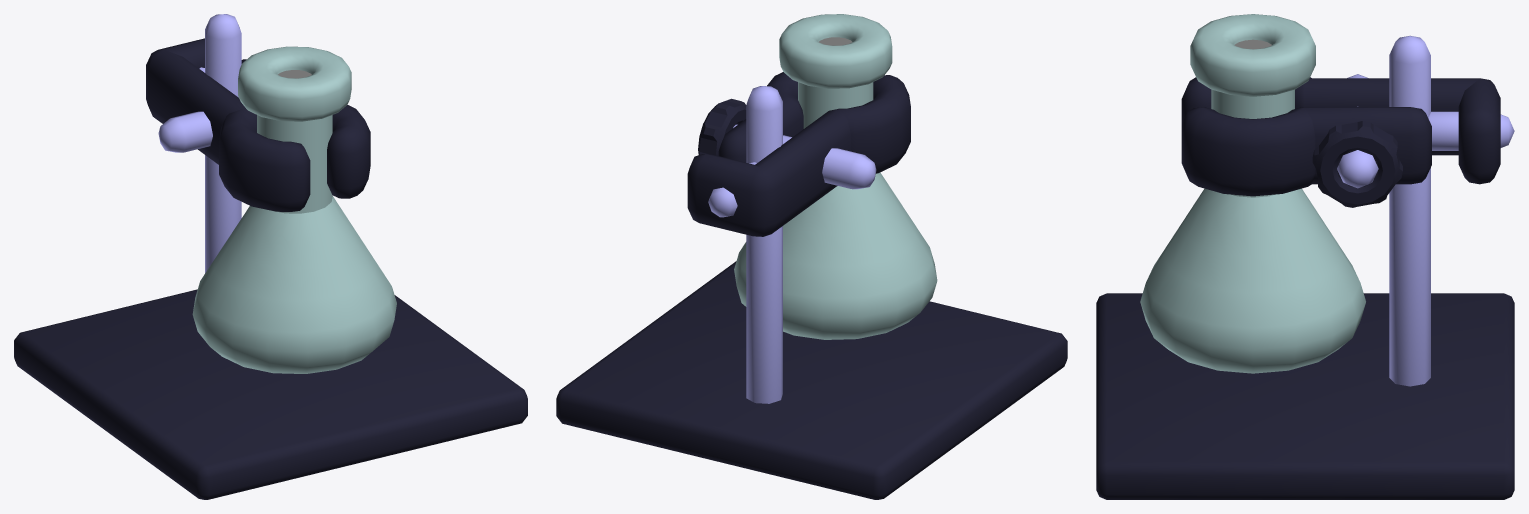
Rendered from LastLuna_Model_Station_Storage.fbx.
3 renders of one model, left to right at view 1: azimuth 30°, elevation 25°; view 2: azimuth 150°, elevation 25°; view 3: azimuth 270°, elevation 25°, orthographic. The views are drawn at different scales.
Parts seen in each view (by area): view 1: Stand_Base_Small001, Flask_Conical001, Stand_Arm_Clamp_Base001, Stand_Pole_Small001, Stand_Arm_Clamp_Catch001, Stand_Arm_Fixture_Clamp001; view 2: Stand_Base_Small001, Flask_Conical001, Stand_Arm_Clamp_Base001, Stand_Pole_Small001, Stand_Arm_Fixture_Clamp001, Stand_Arm_Clamp_Catch001, Stand_Arm_Clamp001; view 3: Stand_Base_Small001, Flask_Conical001, Stand_Arm_Clamp_Catch001, Stand_Pole_Small001, Stand_Arm_Clamp_Base001, Stand_Arm_Fixture_Clamp001, Stand_Arm_Clamp001.
Boxes of the visible parts, x1,y1,x2,y2 form: Stand_Base_Small001: [14, 289, 527, 499]; Flask_Conical001: [192, 46, 396, 373]; Stand_Arm_Clamp_Base001: [146, 38, 310, 211]; Stand_Pole_Small001: [205, 14, 241, 272]; Stand_Arm_Clamp_Catch001: [241, 59, 370, 198]; Stand_Arm_Fixture_Clamp001: [158, 111, 212, 152]; Stand_Base_Small001: [556, 261, 1067, 499]; Flask_Conical001: [734, 14, 937, 339]; Stand_Arm_Clamp_Base001: [687, 75, 910, 236]; Stand_Pole_Small001: [746, 86, 782, 403]; Stand_Arm_Fixture_Clamp001: [698, 98, 876, 189]; Stand_Arm_Clamp_Catch001: [718, 72, 803, 162]; Stand_Arm_Clamp001: [708, 162, 756, 217]; Stand_Base_Small001: [1096, 293, 1514, 499]; Flask_Conical001: [1140, 14, 1365, 373]; Stand_Arm_Clamp_Catch001: [1181, 107, 1431, 196]; Stand_Pole_Small001: [1389, 35, 1430, 386]; Stand_Arm_Clamp_Base001: [1181, 77, 1500, 184]; Stand_Arm_Fixture_Clamp001: [1312, 74, 1402, 207]; Stand_Arm_Clamp001: [1428, 111, 1514, 150].
Bounding box in the file's own units: 100 × 100 × 100.
